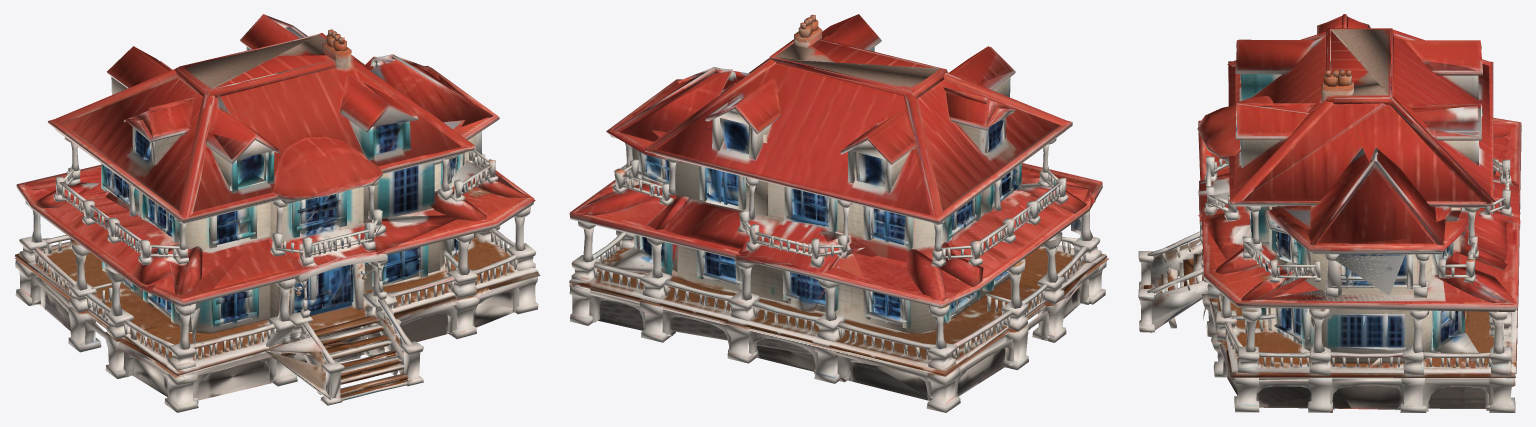
Rendered from estate.glb.
3 views of the same model, side by side, from view 1: azimuth 30°, elevation 25°; view 2: azimuth 150°, elevation 25°; view 3: azimuth 270°, elevation 25° (orthographic).
Visible parts, largest first — view 1: estate_LOD0; view 2: estate_LOD0; view 3: estate_LOD0.
Boxes of the visible parts, x1,y1,x2,y2 form: estate_LOD0: (15, 14, 540, 412); estate_LOD0: (569, 14, 1109, 412); estate_LOD0: (1138, 14, 1521, 412).
Bounding box in the file's own units: 1 × 0.6814 × 0.8669.
1 material, 1 textured.
